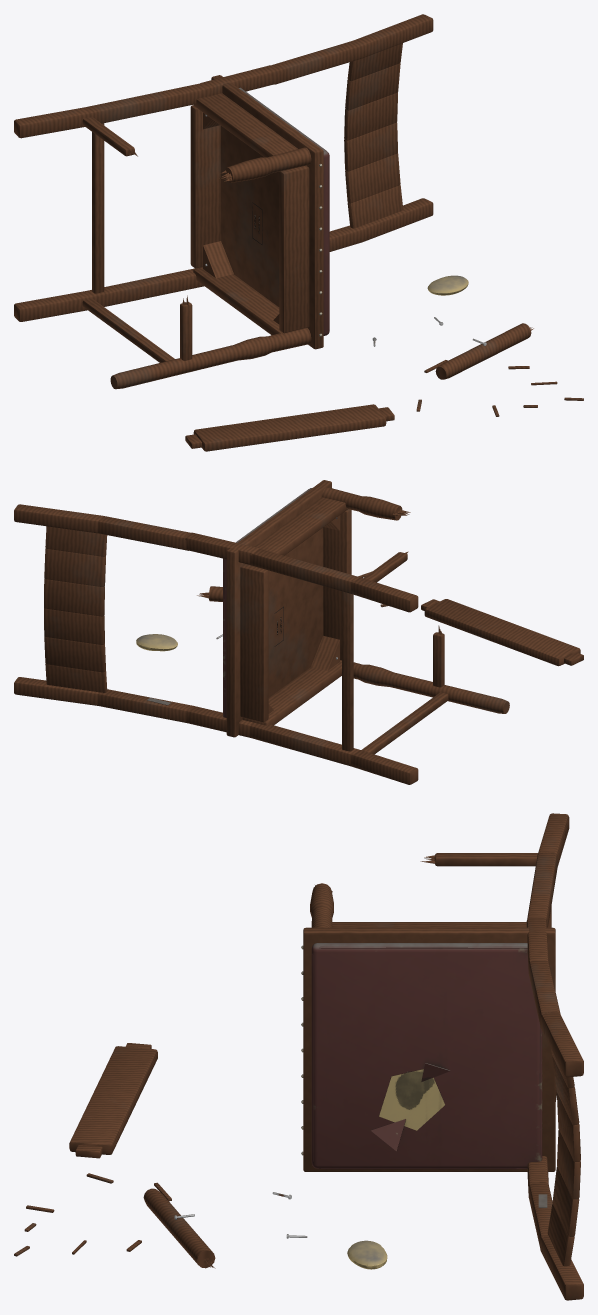
Rendered from SM_Chair_Broken.fbx.
3 views of the same model, one above another, from view 1: azimuth 30°, elevation 25°; view 2: azimuth 150°, elevation 25°; view 3: azimuth 270°, elevation 25° (orthographic). The views are drawn at different scales.
Visible parts, largest first — view 1: SM_Chair_Broken; view 2: SM_Chair_Broken; view 3: SM_Chair_Broken.
Boxes of the visible parts, <box> form: SM_Chair_Broken: <box>14,14,583,451</box>; SM_Chair_Broken: <box>14,480,583,784</box>; SM_Chair_Broken: <box>14,813,583,1300</box>.
Bounding box in the file's own units: 0.9377 × 0.4209 × 0.9026.
1 material, 1 textured.
